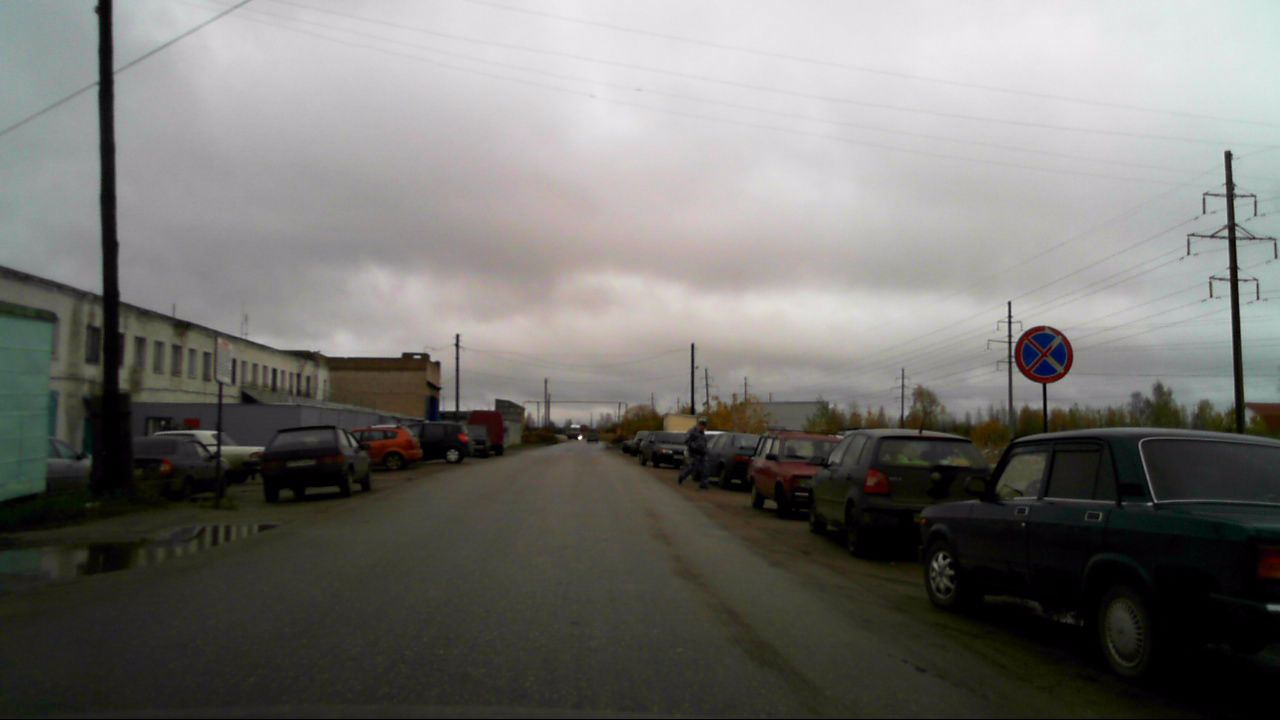No Parking: (1014, 324, 1074, 384)
